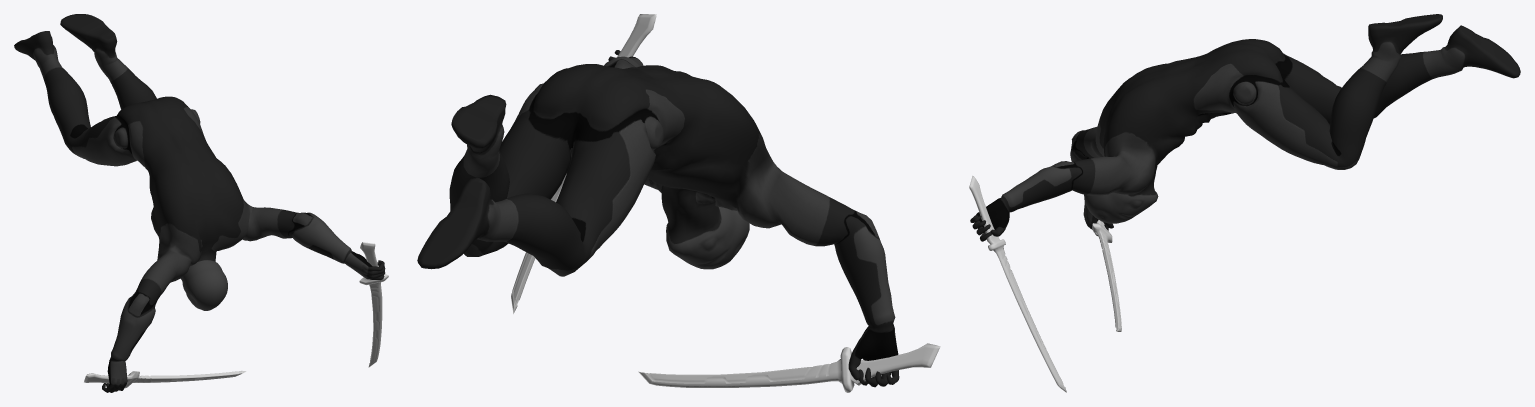
3 renders of one model, left to right at view 1: azimuth 30°, elevation 25°; view 2: azimuth 150°, elevation 25°; view 3: azimuth 270°, elevation 25°, orthographic. The views are drawn at different scales.
Visible parts, largest first — view 1: Cyborg_Ninja_Killer, Sword_l, Sword_l001; view 2: Cyborg_Ninja_Killer, Sword_l001, Sword_l; view 3: Cyborg_Ninja_Killer, Sword_l, Sword_l001.
Boxes of the visible parts, <box> form: Cyborg_Ninja_Killer: <box>14,14,385,392</box>; Sword_l: <box>359,242,388,367</box>; Sword_l001: <box>84,370,246,388</box>; Cyborg_Ninja_Killer: <box>417,50,899,387</box>; Sword_l001: <box>638,343,940,392</box>; Sword_l: <box>511,14,656,313</box>; Cyborg_Ninja_Killer: <box>970,14,1520,241</box>; Sword_l: <box>969,176,1066,392</box>; Sword_l001: <box>1092,220,1121,331</box>.
Size of the model in its own units: 137 by 125 by 206.
